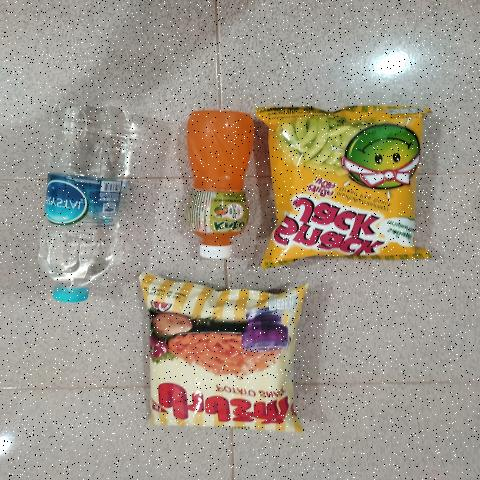crystal: (43, 117, 133, 306)
paprika: (158, 296, 293, 421)
snack_jack: (272, 126, 406, 253)
